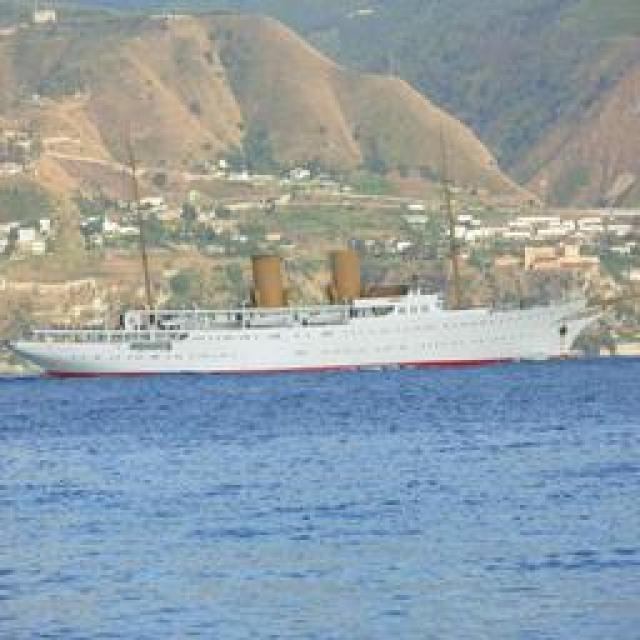ship2: (8, 248, 607, 378)
